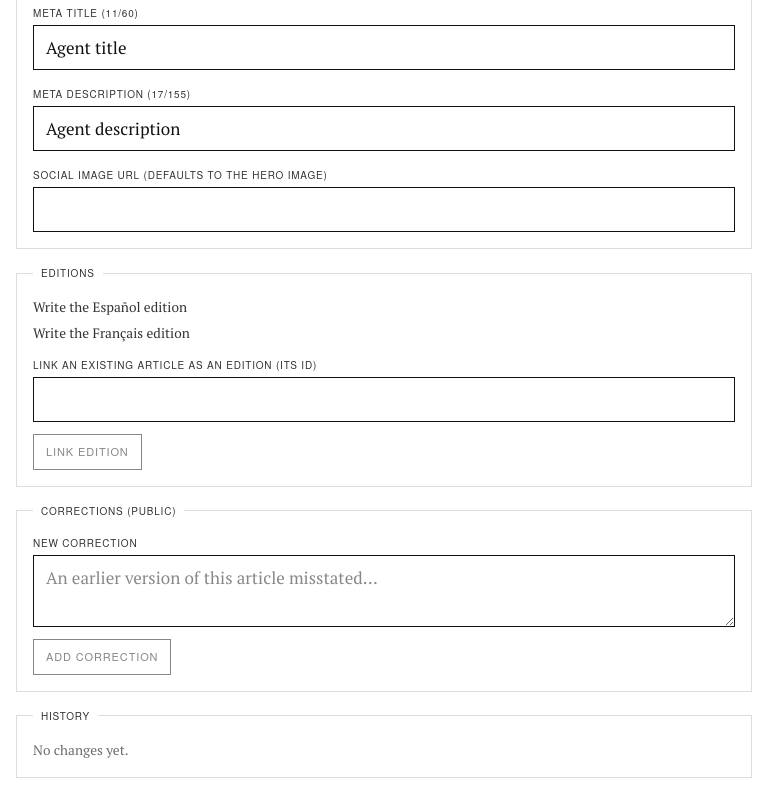
Scenario: Editor workflow › adds a public correction
This screenshot has width=769, height=810.
(page scrolled)
Type "Fixed the date." into the text box with placeholder "An earlier version of this article misstated…".
click(384, 591); type("Fixed the date.")  # box [33,555,735,627]
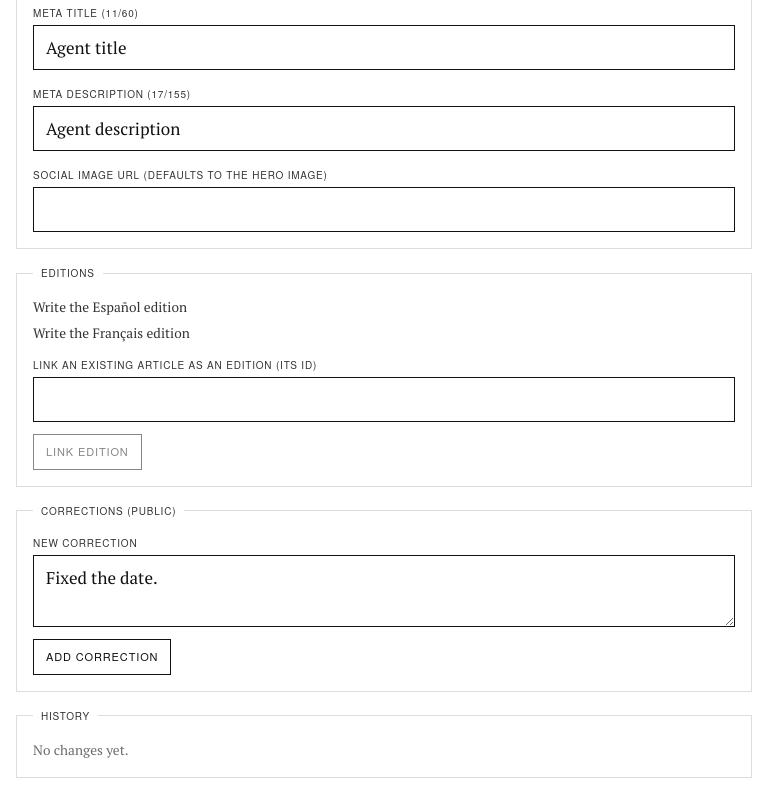
Click the button "Add correction".
click(102, 657)  # box [33,639,171,675]
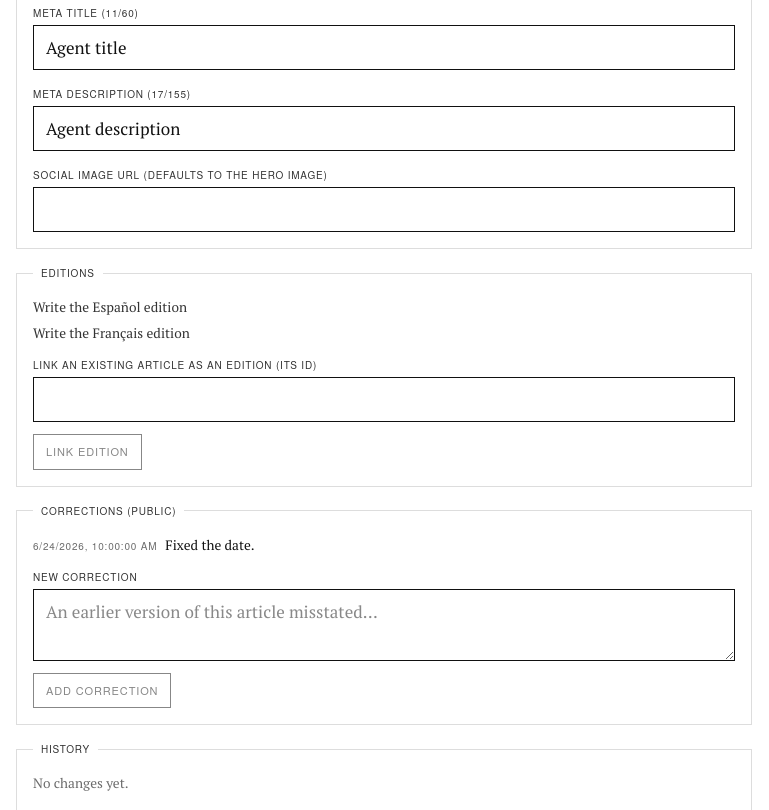
expect the list item "Fixed the date." is shown: met, box [165,536,255,554]
